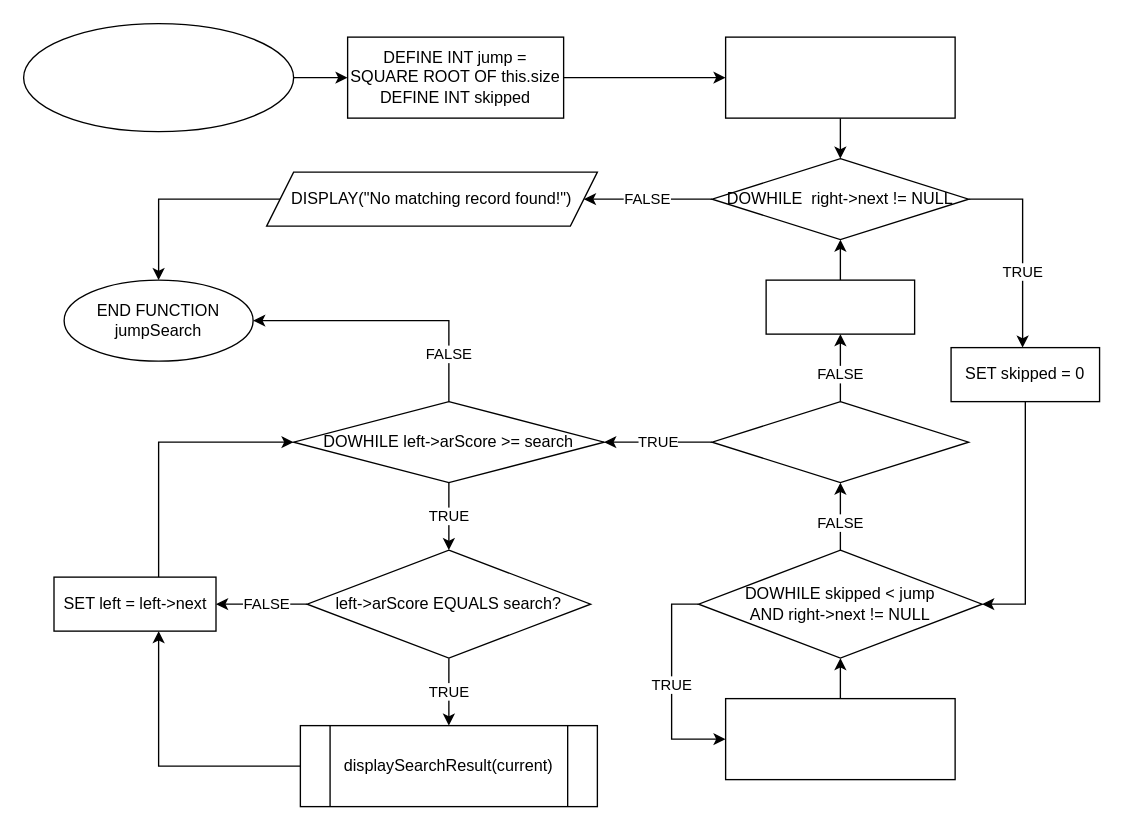
The diagram is 1123 pixels wide and 830 high, and some of its shapes have lost their labels. Here are the shapes that lost their labels. From the top down, the centre of each, then its label:
At (158,77): "START FUNCTION jumpSearch PARAMETER: double search".
At (839,77): "DEFINE UniversityNode POINTER left = this.head, POINTER right = left".
At (840,306): "SET left = right".
At (840,441): "right->arScore <= search?".
At (839,738): "SET right = right->next INCREMENT skipped BY 1".
